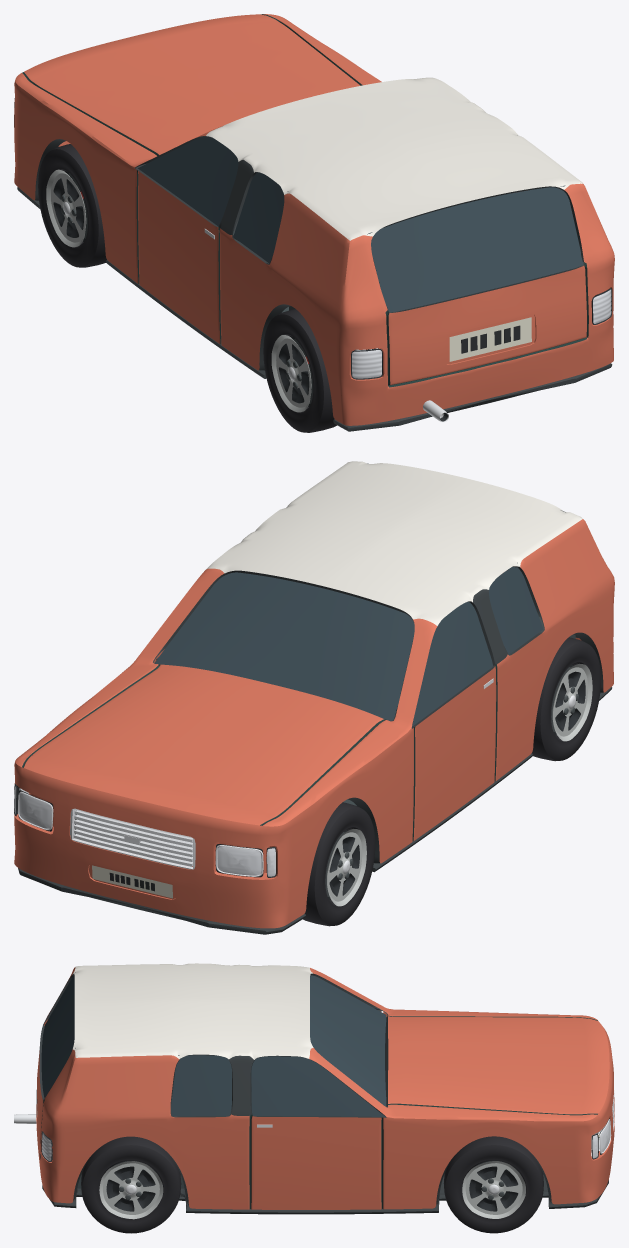
The model's file is forge_closed_hatch.fbx.
3 views of the same model, one above another, from view 1: azimuth 30°, elevation 25°; view 2: azimuth 150°, elevation 25°; view 3: azimuth 270°, elevation 25° (orthographic). The views are drawn at different scales.
Parts seen in each view (by area): view 1: Body, Wheel_RL_Mesh, Wheel_FL_Mesh; view 2: Body, Wheel_FL_Mesh, Wheel_RL_Mesh; view 3: Body, Wheel_RR_Mesh, Wheel_FR_Mesh.
Boxes of the visible parts, bbox=[...] form: Body: bbox=[14, 14, 614, 431]; Wheel_RL_Mesh: bbox=[263, 309, 336, 432]; Wheel_FL_Mesh: bbox=[38, 144, 106, 267]; Body: bbox=[14, 461, 614, 934]; Wheel_FL_Mesh: bbox=[303, 802, 375, 926]; Wheel_RL_Mesh: bbox=[532, 637, 600, 761]; Body: bbox=[14, 963, 614, 1214]; Wheel_RR_Mesh: bbox=[81, 1136, 181, 1233]; Wheel_FR_Mesh: bbox=[443, 1136, 543, 1233].
Bounding box in the file's own units: 156 × 117 × 355.
